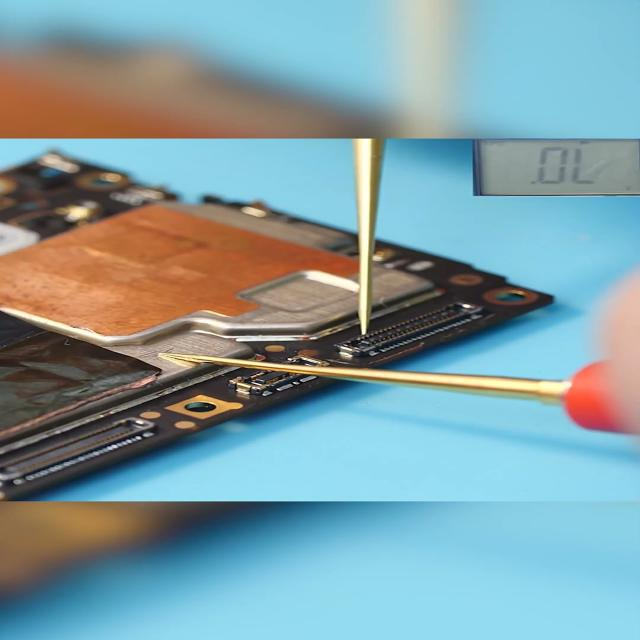pcb: (1, 158, 554, 500), (1, 148, 179, 254), (471, 137, 638, 197)
